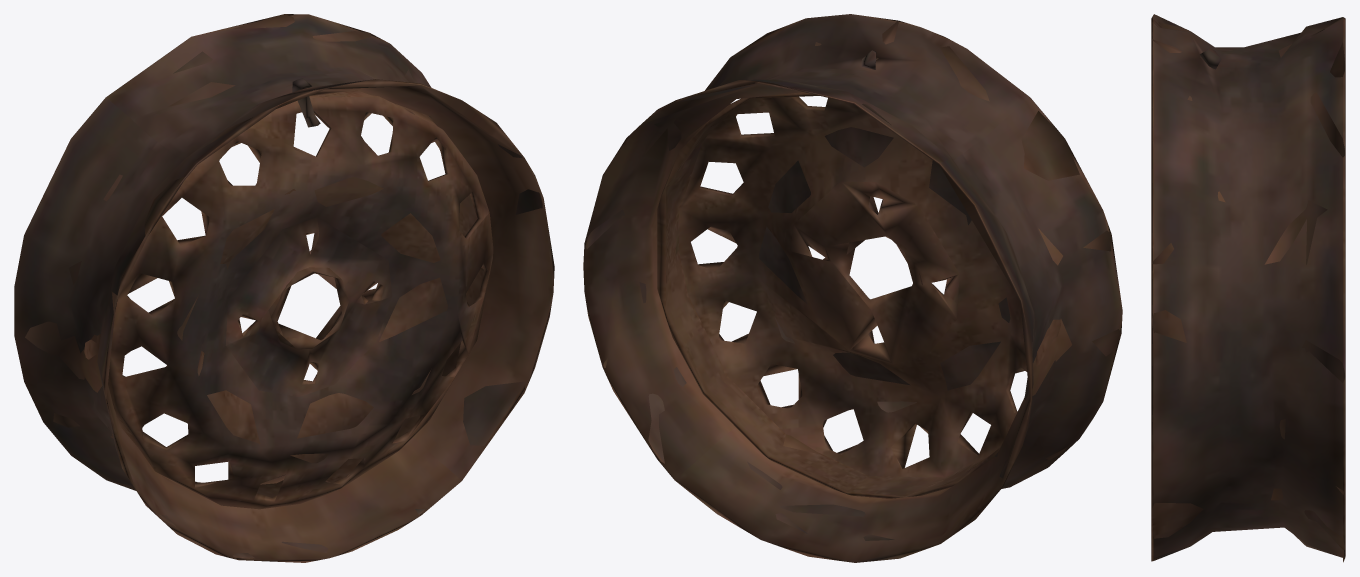
Rendered from rusted_wheel_rim_02.glb.
3 views of the same model, side by side, from view 1: azimuth 30°, elevation 25°; view 2: azimuth 150°, elevation 25°; view 3: azimuth 270°, elevation 25° (orthographic). The views are drawn at different scales.
Parts seen in each view (by area): view 1: rusted_wheel_rim_02; view 2: rusted_wheel_rim_02; view 3: rusted_wheel_rim_02.
Part boxes in pixels (x1,y1,x2,y2): rusted_wheel_rim_02: [14, 14, 554, 562]; rusted_wheel_rim_02: [583, 14, 1122, 562]; rusted_wheel_rim_02: [1151, 14, 1345, 562].
Size of the model in its own units: 0.3374 by 0.3365 by 0.1189.
Materials: 1 (1 with a texture image).
